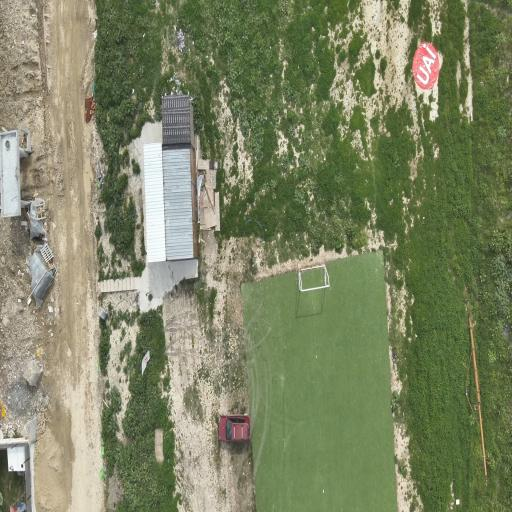UAI: (413, 43, 439, 90)
car: (219, 415, 251, 442)
